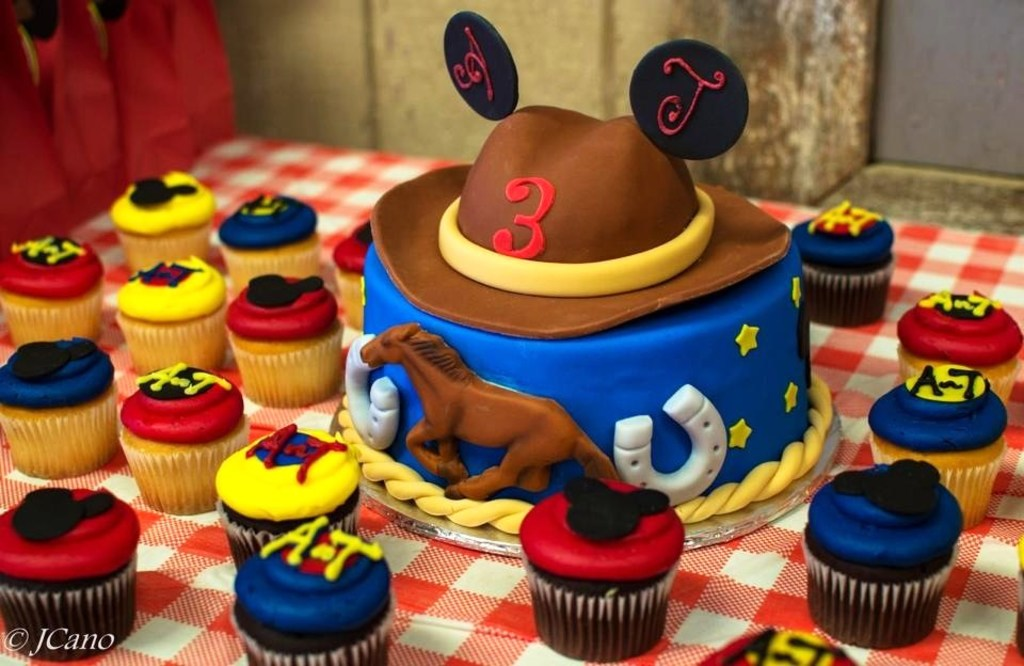cake: (338, 11, 834, 523), (519, 478, 690, 664), (801, 461, 966, 650), (203, 530, 389, 666), (0, 488, 141, 664), (869, 365, 1010, 522), (117, 363, 253, 518), (0, 344, 117, 478), (226, 272, 341, 402), (892, 286, 1019, 397), (793, 200, 896, 331), (0, 229, 102, 346), (115, 256, 225, 362), (109, 171, 210, 265), (219, 194, 322, 280)
